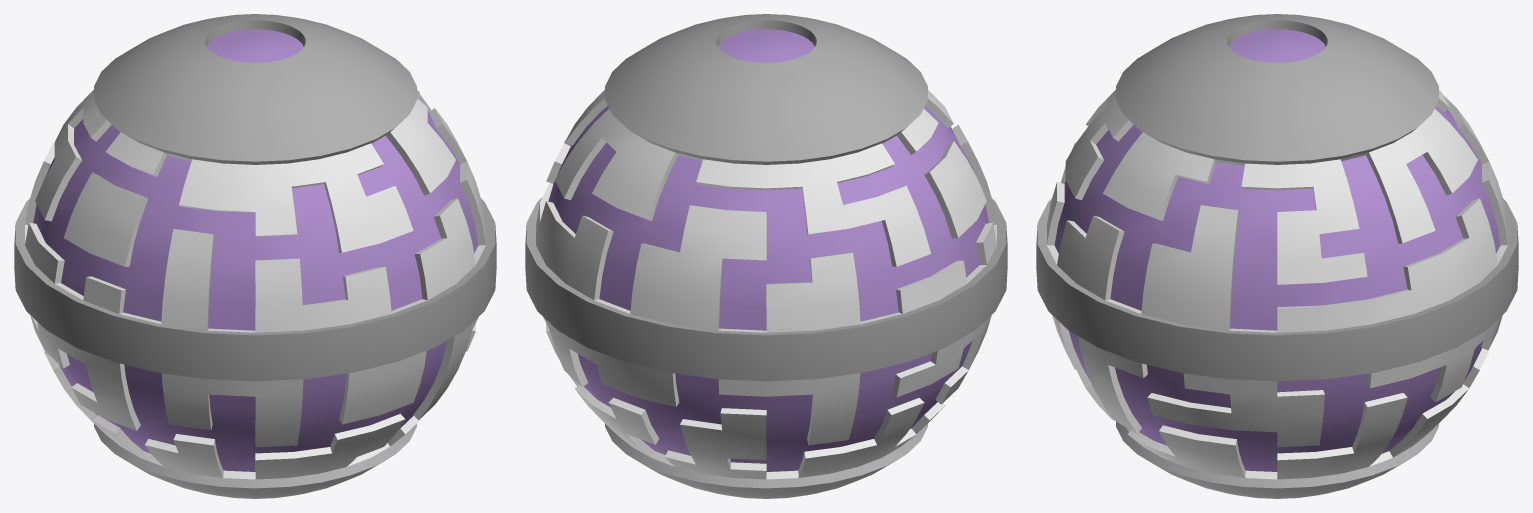
File: Mesh_BallThing_m01_v02_blinns.fbx
3 renders of one model, left to right at view 1: azimuth 30°, elevation 25°; view 2: azimuth 150°, elevation 25°; view 3: azimuth 270°, elevation 25°, orthographic.
Visible parts, largest first — view 1: pSphere3; view 2: pSphere3; view 3: pSphere3.
Boxes of the visible parts, x1=… form: pSphere3: x1=14, y1=14, x2=496, y2=498; pSphere3: x1=525, y1=14, x2=1007, y2=498; pSphere3: x1=1036, y1=14, x2=1518, y2=498.
Bounding box in the file's own units: 0.9828 × 0.9613 × 0.9774.
